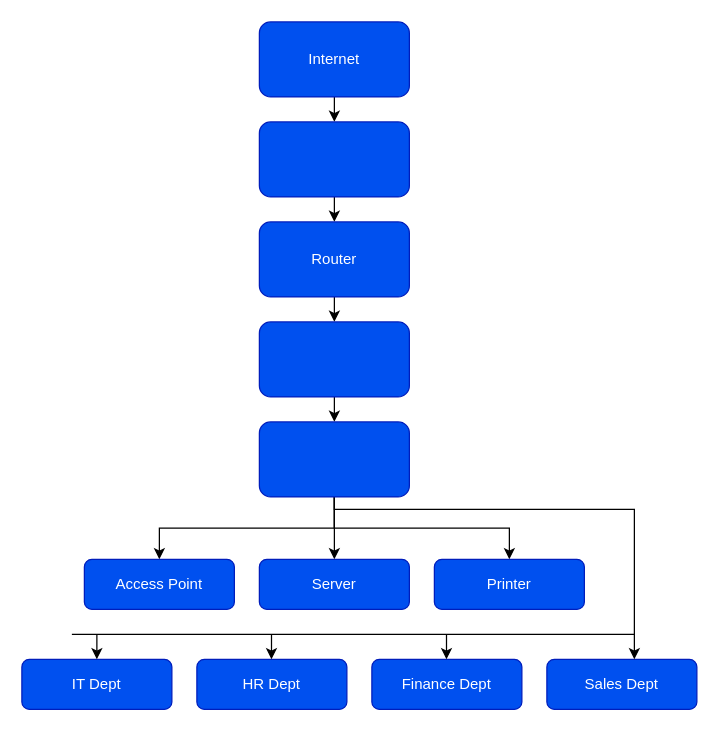
The diagram is 719 pixels wide and 731 high, and some of its shapes have lost their labels. Each missing label, with the centre of its shape:
Firewall: the point at 333,359
ISP Modem: the point at 333,159
Switch: the point at 333,459
